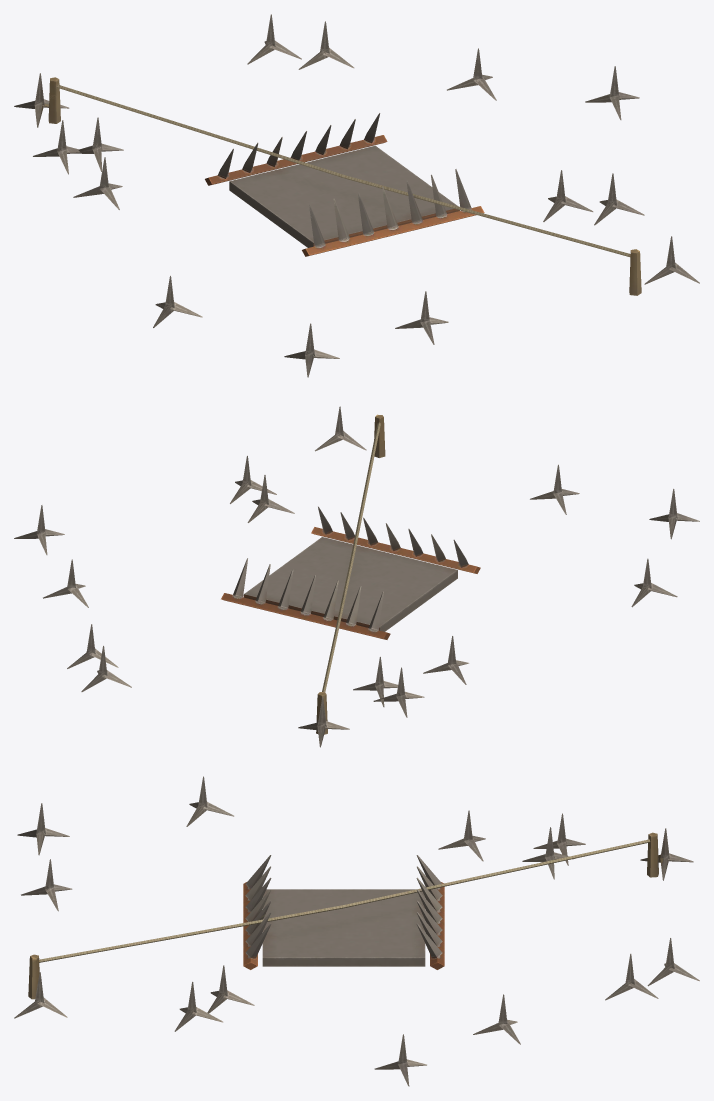
File: trap-town.hq.glb
3 renders of one model, top to bottom at view 1: azimuth 30°, elevation 25°; view 2: azimuth 150°, elevation 25°; view 3: azimuth 270°, elevation 25°, orthographic. The views are drawn at different scales.
Parts seen in each view (by area): view 1: trap-town:static, trap-town:bar-b-mesh, trap-town:bar-a-mesh; view 2: trap-town:static, trap-town:bar-a-mesh, trap-town:bar-b-mesh; view 3: trap-town:static, trap-town:bar-a-mesh, trap-town:bar-b-mesh.
Boxes of the visible parts, box(x1,y1,x2,y2) form: trap-town:static: box(14, 14, 699, 377); trap-town:bar-b-mesh: box(302, 169, 484, 256); trap-town:bar-a-mesh: box(205, 113, 387, 185); trap-town:static: box(14, 406, 699, 747); trap-town:bar-a-mesh: box(221, 558, 390, 639); trap-town:bar-b-mesh: box(311, 506, 480, 573); trap-town:static: box(14, 776, 699, 1086); trap-town:bar-a-mesh: box(416, 855, 444, 969); trap-town:bar-b-mesh: box(243, 855, 271, 969).
Size of the model in its own units: 1.64 by 0.1273 by 1.69.
1 material, 1 textured.
